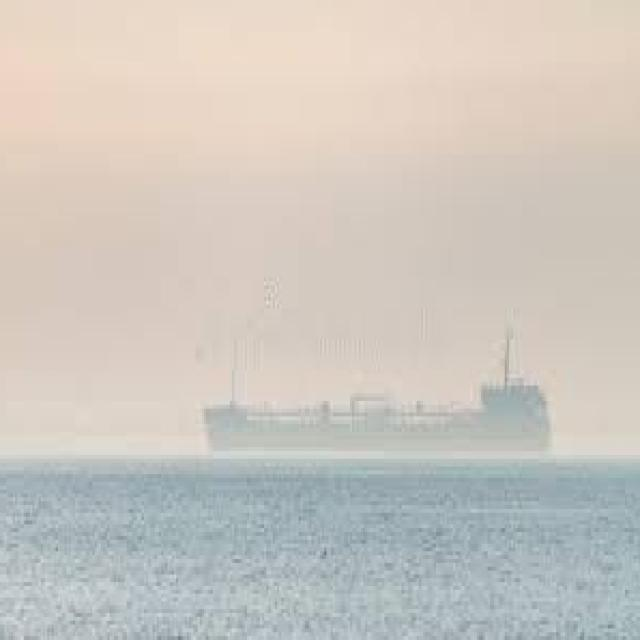cargoship: (201, 324, 553, 466)
